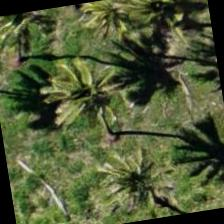Kelapa_Sawit: (94, 128, 197, 223)
